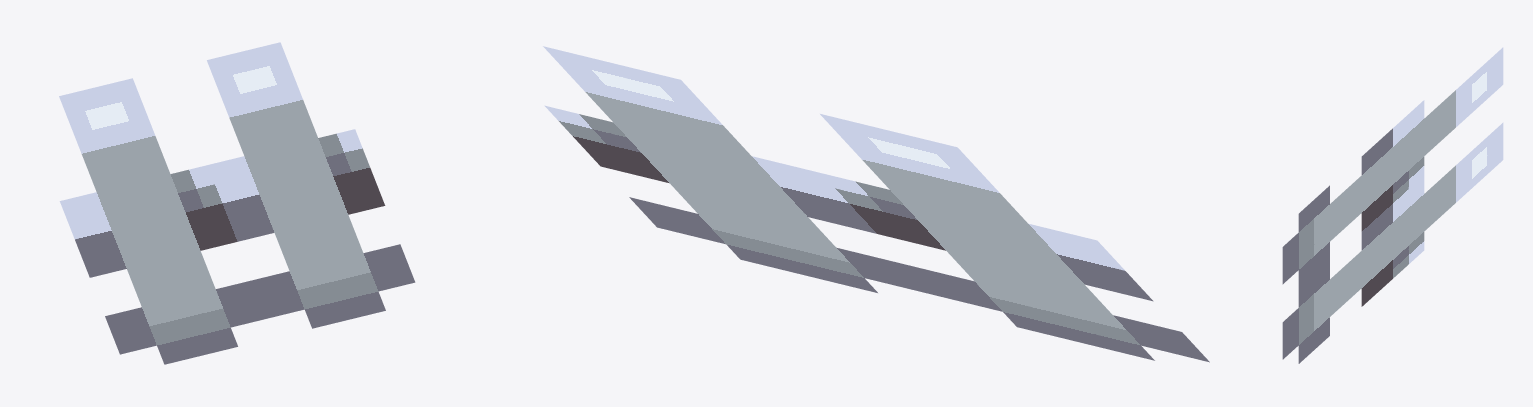
3 views of the same model, side by side, from view 1: azimuth 30°, elevation 25°; view 2: azimuth 150°, elevation 25°; view 3: azimuth 270°, elevation 25° (orthographic). The views are drawn at different scales.
Size of the model in its own units: 1 by 0.707 by 0.707.
1 material, 1 textured.
